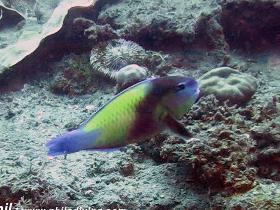Scaridae -Parrotfishes-: (42, 68, 199, 166)
